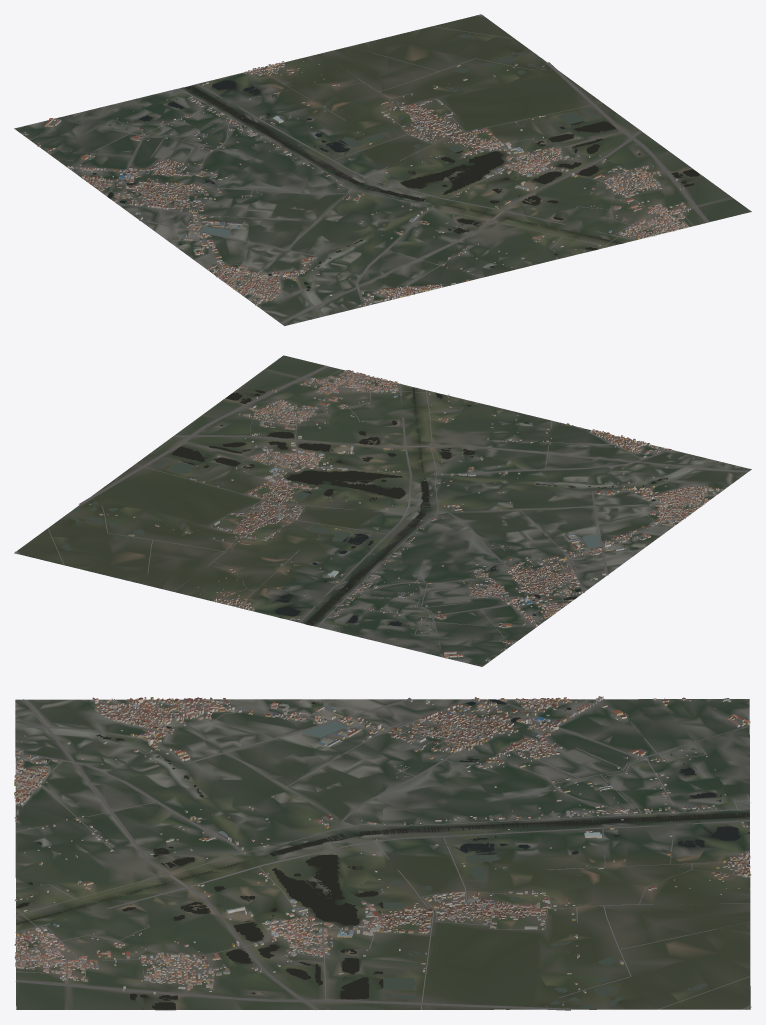
The picture shows the model from 3 angles, top to bottom: view 1: azimuth 30°, elevation 25°; view 2: azimuth 150°, elevation 25°; view 3: azimuth 270°, elevation 25°; orthographic projection. The views are drawn at different scales.
Parts seen in each view (by area): view 1: ground, buildings, roads, water; view 2: ground, buildings, roads, water; view 3: ground, buildings, roads, water.
Part boxes in pixels (x1=…): ground: x1=14, y1=14, x2=751, y2=325; buildings: x1=22, y1=58, x2=690, y2=310; roads: x1=33, y1=15, x2=725, y2=324; water: x1=92, y1=34, x2=702, y2=290; ground: x1=14, y1=355, x2=751, y2=666; buildings: x1=89, y1=370, x2=723, y2=661; roads: x1=15, y1=365, x2=749, y2=657; water: x1=61, y1=387, x2=667, y2=625; ground: x1=15, y1=699, x2=750, y2=1010; buildings: x1=14, y1=696, x2=751, y2=1005; roads: x1=15, y1=699, x2=751, y2=1010; water: x1=16, y1=699, x2=749, y2=1009.
Bounding box in the file's own units: 2819 × 24.43 × 2817.
